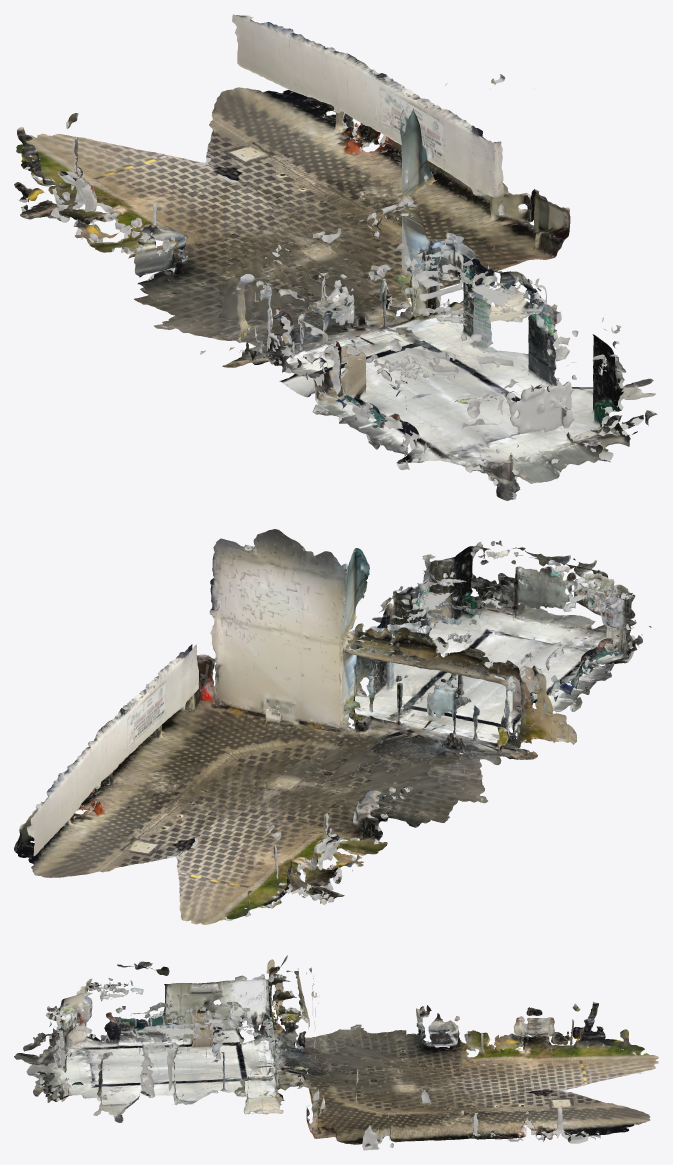
The model's file is MAP_9UMXWR0PI7K5.glb.
3 views of the same model, one above another, from view 1: azimuth 30°, elevation 25°; view 2: azimuth 150°, elevation 25°; view 3: azimuth 270°, elevation 25° (orthographic). The views are drawn at different scales.
Visible parts, largest first — view 1: TexturedMesh.obj; view 2: TexturedMesh.obj; view 3: TexturedMesh.obj.
Boxes of the visible parts, left/top/right/bottom form: TexturedMesh.obj: left=14, top=14, right=657, bottom=500; TexturedMesh.obj: left=14, top=529, right=651, bottom=924; TexturedMesh.obj: left=14, top=955, right=658, bottom=1150.
Bounding box in the file's own units: 12.47 × 6.53 × 24.68.
Materials: 1 (1 with a texture image).
